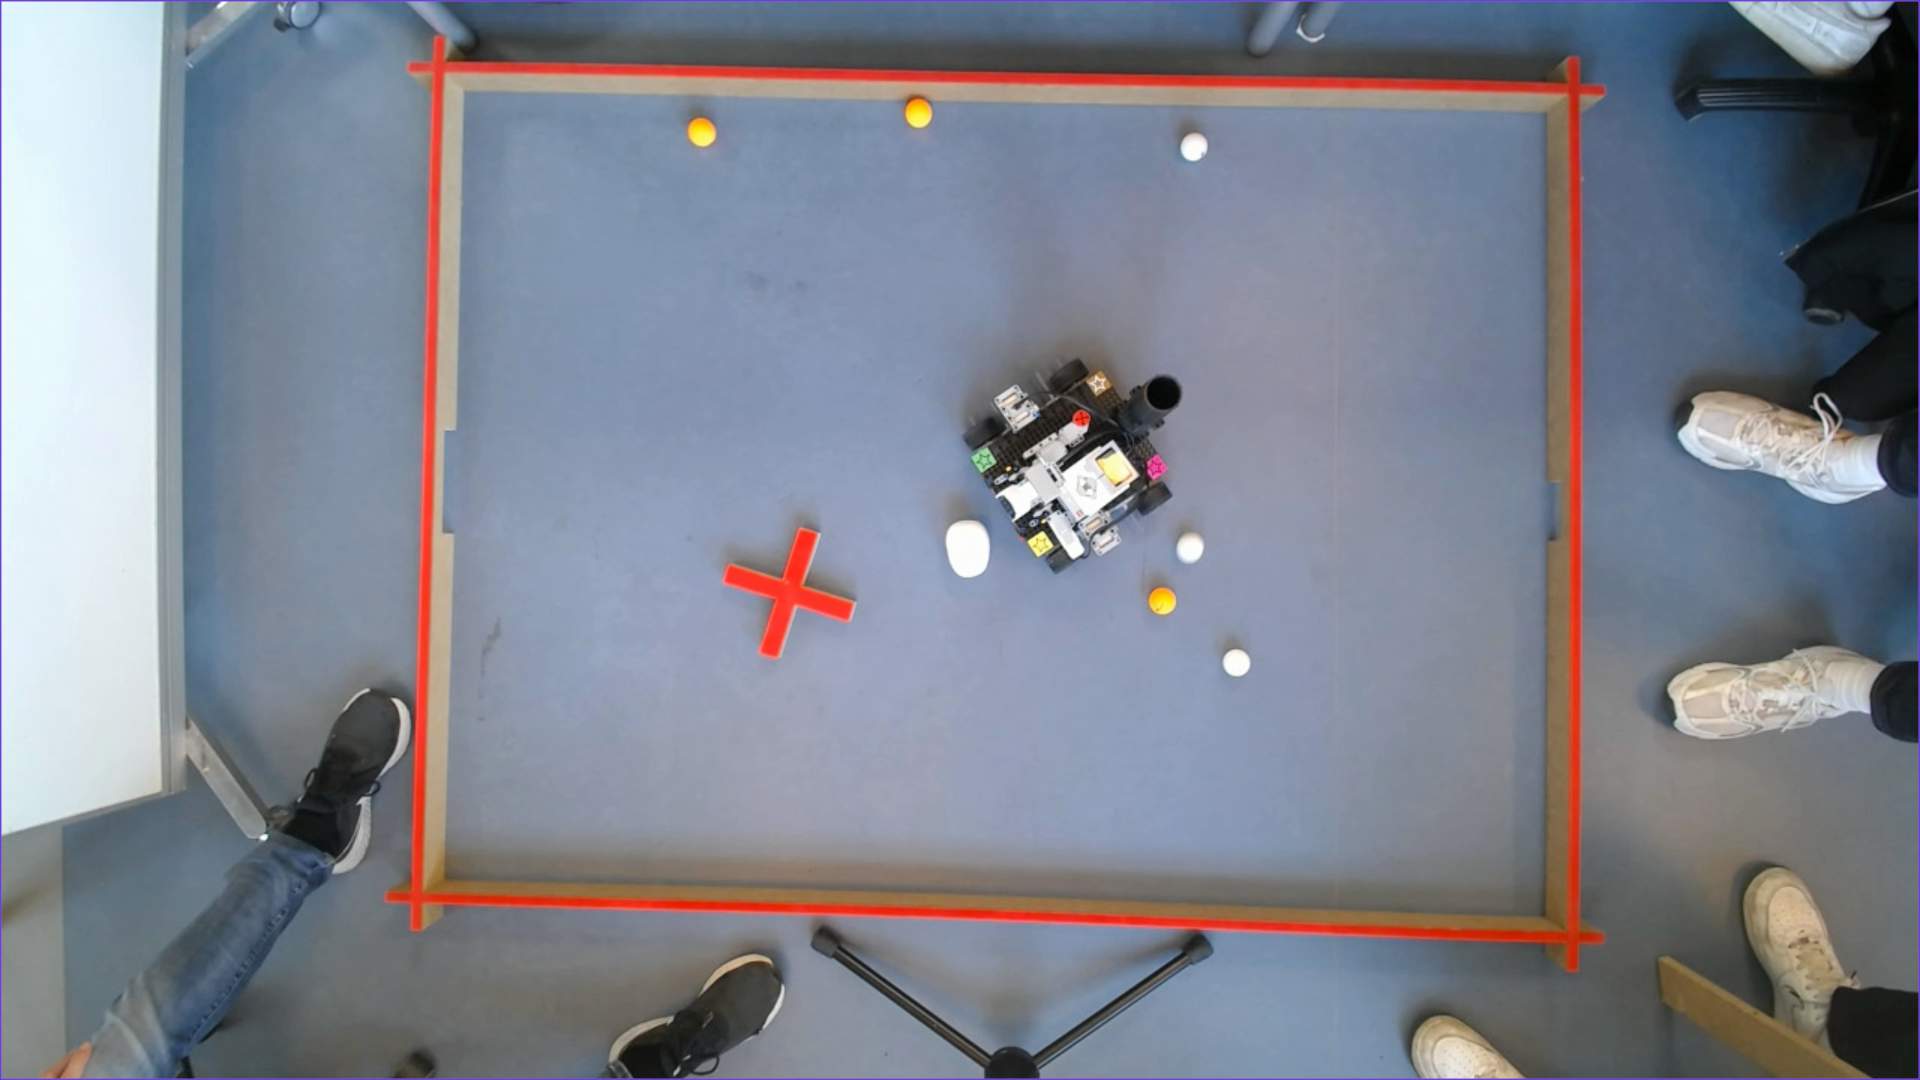ball_orange: (687, 117, 717, 146), (905, 98, 934, 127), (1149, 585, 1176, 616)
ball_white: (1175, 534, 1205, 564), (1180, 132, 1208, 164), (1222, 646, 1250, 676)
corner_brown: (1087, 372, 1112, 396)
corner_green: (972, 447, 998, 472)
corner_pink: (1143, 456, 1167, 477)
corner_yellow: (1029, 531, 1054, 556)
cross: (723, 527, 857, 658)
egg: (945, 520, 992, 578)
playfield: (404, 59, 1582, 945)
